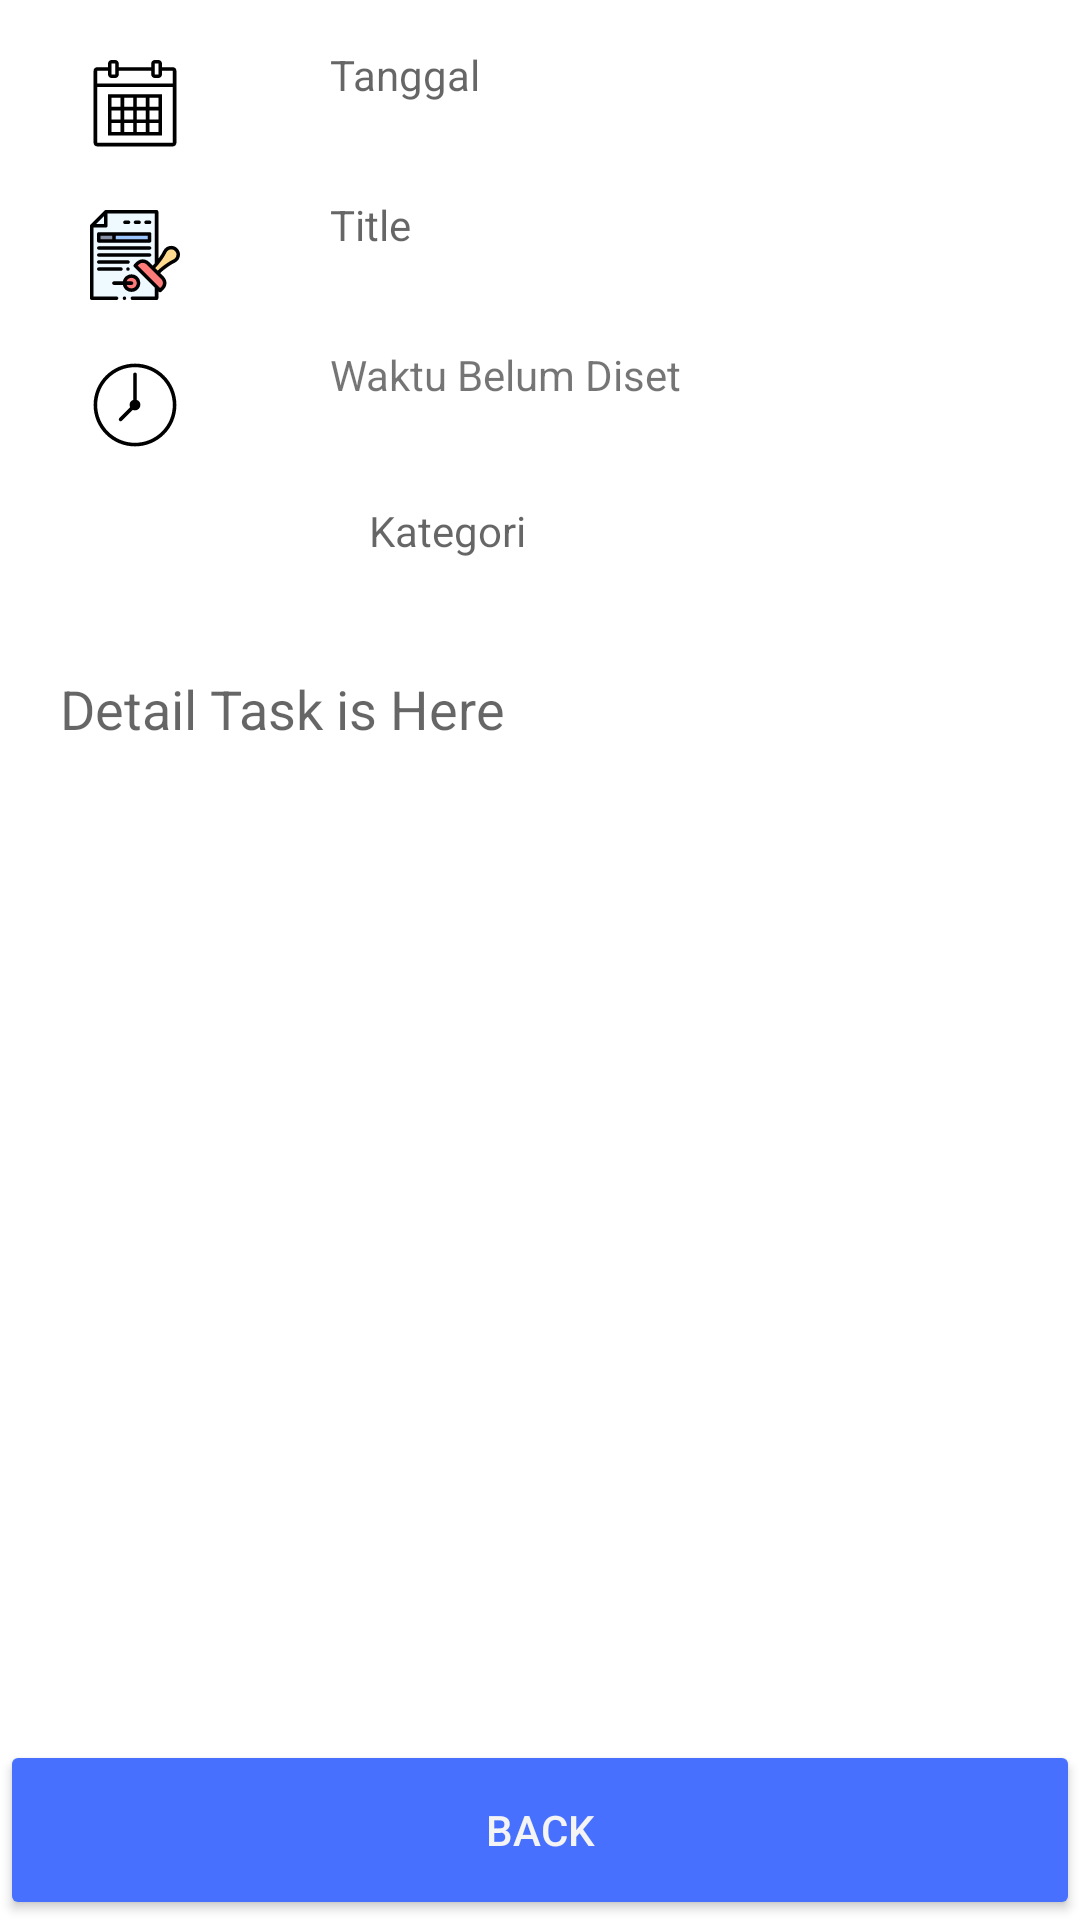

Named icons in this screenshot (1080px×1920px) and their bounding boxes, (x1, y1, x2, y2):
calendar: (93, 60, 177, 147)
clock: (93, 363, 177, 447)
official documents: (90, 210, 180, 300)
